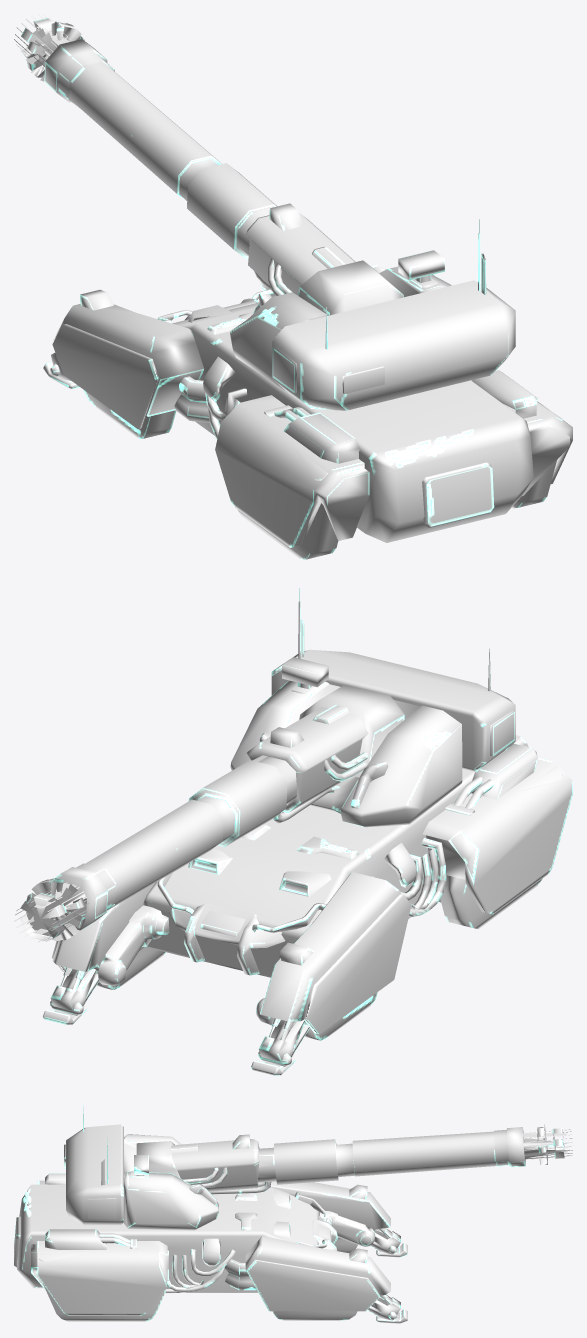
Rendered from artillerie_v3.glb.
3 views of the same model, one above another, from view 1: azimuth 30°, elevation 25°; view 2: azimuth 150°, elevation 25°; view 3: azimuth 270°, elevation 25° (orthographic). The views are drawn at different scales.
Visible parts, largest first — view 1: artillerie_v3; view 2: artillerie_v3; view 3: artillerie_v3.
Part boxes in pixels (box(x1,y1,x2,y2)): artillerie_v3: box(14, 14, 572, 559); artillerie_v3: box(14, 588, 572, 1075); artillerie_v3: box(14, 1104, 572, 1323).
Size of the model in its own units: 0.9077 by 0.9128 by 2.6.
1 material, 1 textured.
